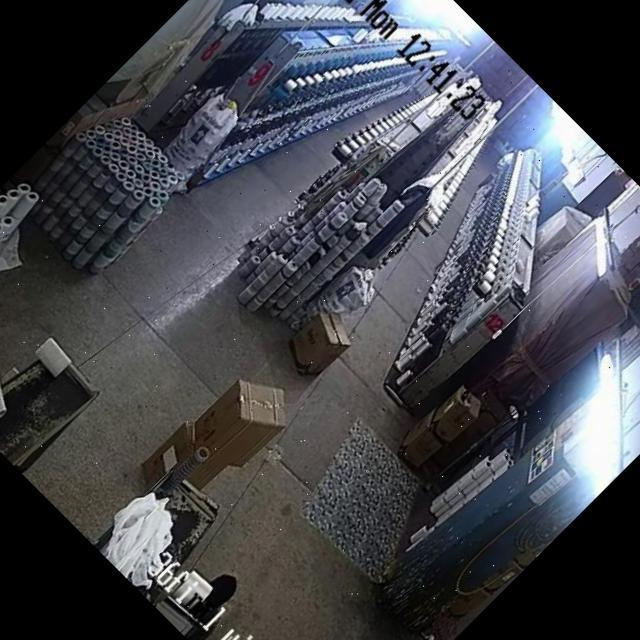person: (167, 567, 250, 640)
